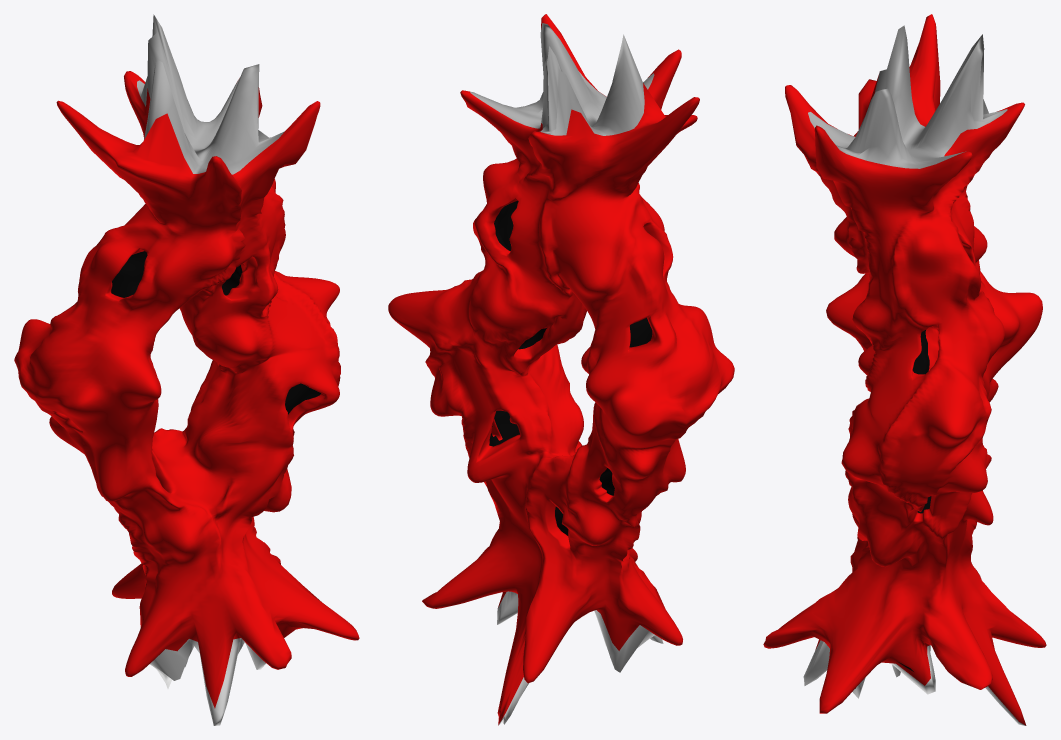
Rendered from Column_02.fbx.
3 renders of one model, left to right at view 1: azimuth 30°, elevation 25°; view 2: azimuth 150°, elevation 25°; view 3: azimuth 270°, elevation 25°, orthographic. The views are drawn at different scales.
Parts seen in each view (by area): view 1: pCylinder3; view 2: pCylinder3; view 3: pCylinder3.
Part boxes in pixels (x1,y1,x2,y2): pCylinder3: (14,14,359,725); pCylinder3: (388,14,734,725); pCylinder3: (763,14,1046,725).
Size of the model in its own units: 30.98 by 23.92 by 63.14.
